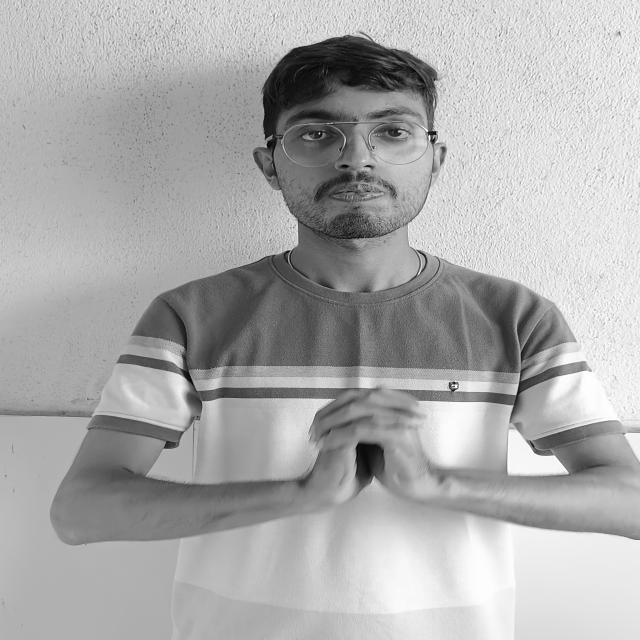Sorry: (272, 373, 477, 514)
